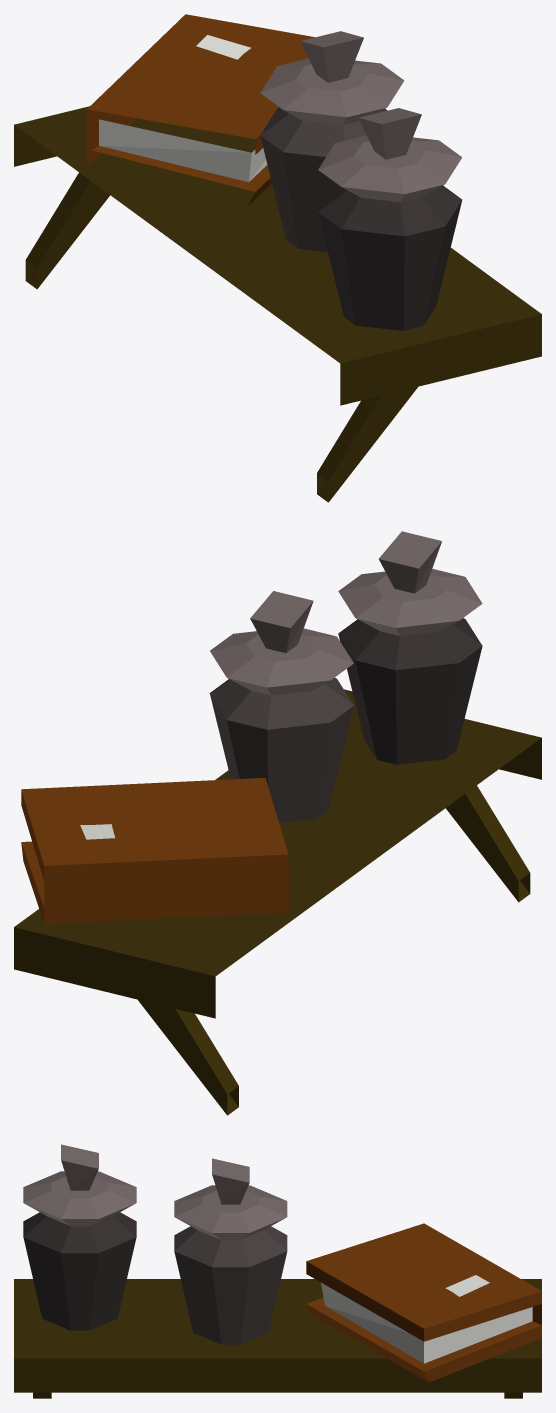
Rendered from model_loc_1021_q.obj.
3 views of the same model, one above another, from view 1: azimuth 30°, elevation 25°; view 2: azimuth 150°, elevation 25°; view 3: azimuth 270°, elevation 25° (orthographic). The views are drawn at different scales.
Parts seen in each view (by area): view 1: 2046; view 2: 2046; view 3: 2046.
Boxes of the visible parts, x1,y1,x2,y2 form: 2046: (14,14,541,502); 2046: (14,531,541,1115); 2046: (14,1144,541,1398).
Size of the model in its own units: 53 by 66 by 112.
